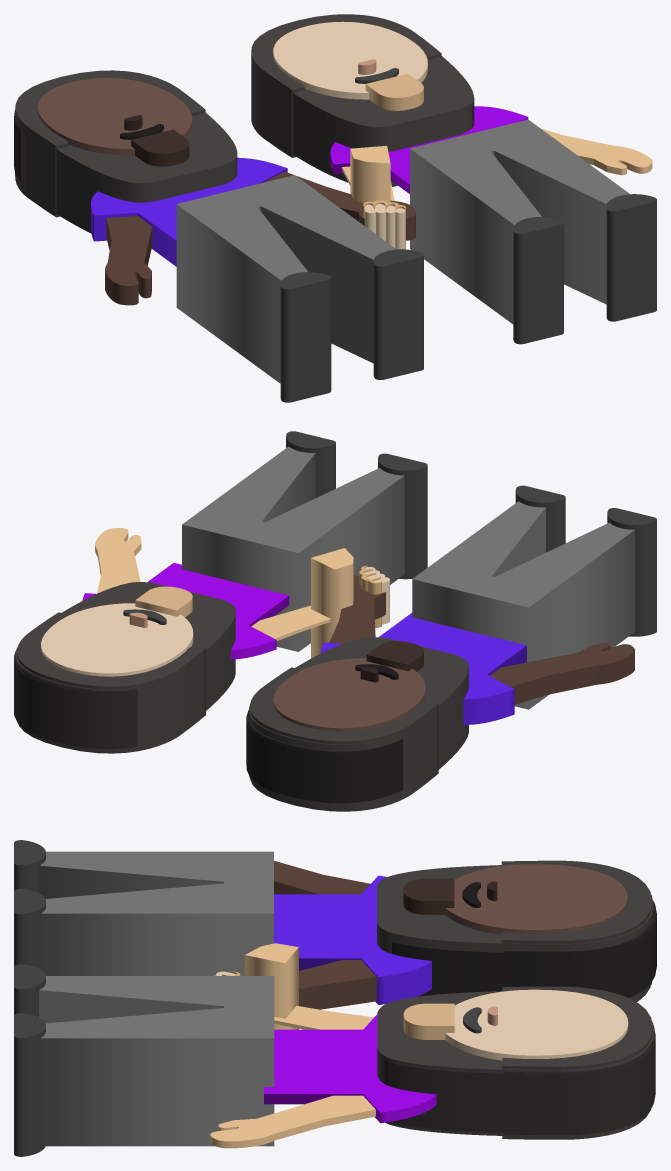
Rendered from emoji_u1f469_1f3ff_200d_1f91d_200d_1f469_1f3fb.glb.
The picture shows the model from 3 angles, top to bottom: view 1: azimuth 30°, elevation 25°; view 2: azimuth 150°, elevation 25°; view 3: azimuth 270°, elevation 25°; orthographic projection. The views are drawn at different scales.
Parts seen in each view (by area): view 1: emoji_u1f469_1f3ff_200d_1f91d_200d_1f469_1f3fb; view 2: emoji_u1f469_1f3ff_200d_1f91d_200d_1f469_1f3fb; view 3: emoji_u1f469_1f3ff_200d_1f91d_200d_1f469_1f3fb.
Boxes of the visible parts, <box> form: emoji_u1f469_1f3ff_200d_1f91d_200d_1f469_1f3fb: <box>14,14,656,402</box>; emoji_u1f469_1f3ff_200d_1f91d_200d_1f469_1f3fb: <box>14,431,656,811</box>; emoji_u1f469_1f3ff_200d_1f91d_200d_1f469_1f3fb: <box>14,840,656,1156</box>.
Size of the model in its own units: 0.0346 by 0.007 by 0.0334.
